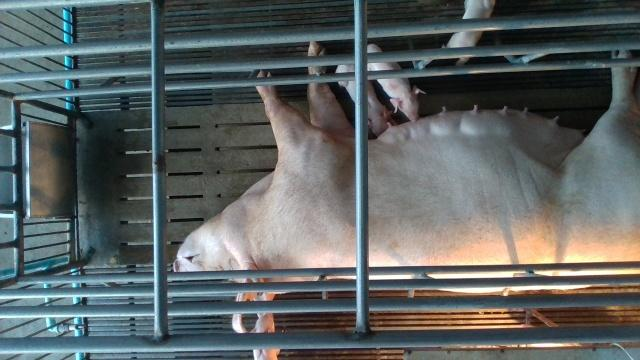piglet: (368, 43, 427, 125), (336, 63, 398, 138), (443, 0, 495, 66), (249, 313, 284, 359)
sow-sleep-lactate: (171, 41, 640, 334)
